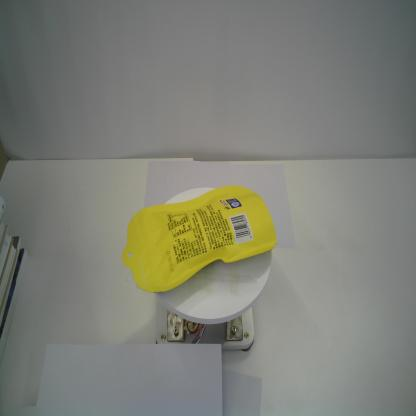Dried Fruit: (121, 184, 278, 296)
